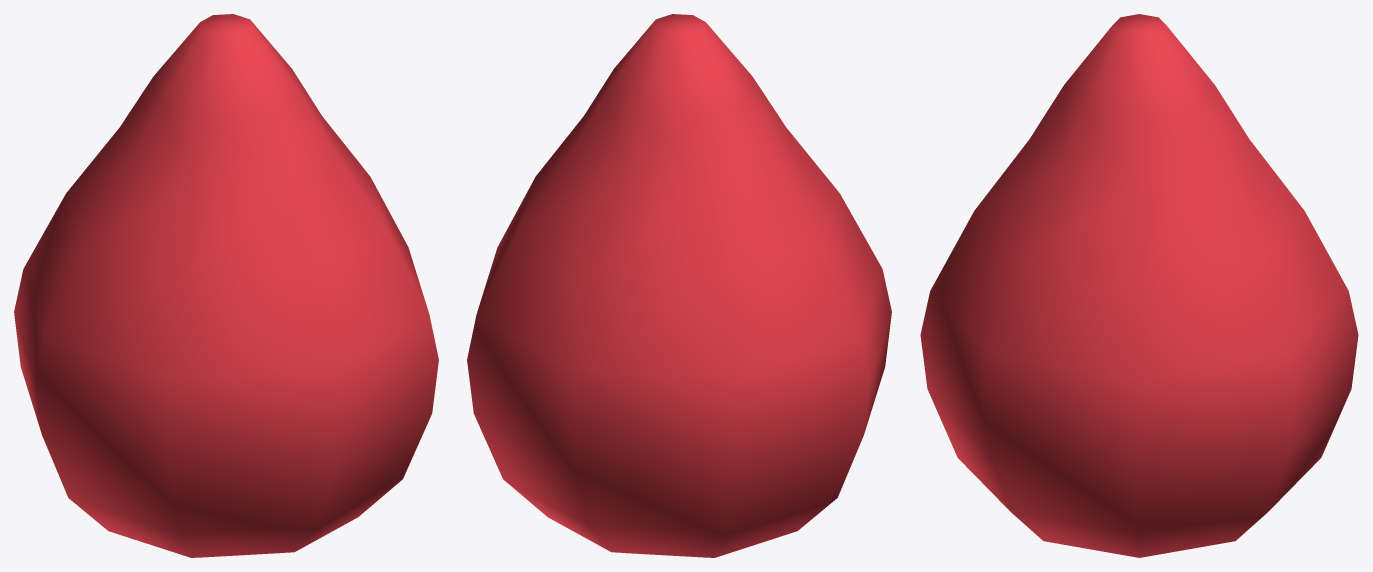
Rendered from berry.fbx.
3 views of the same model, side by side, from view 1: azimuth 30°, elevation 25°; view 2: azimuth 150°, elevation 25°; view 3: azimuth 270°, elevation 25° (orthographic).
Visible parts, largest first — view 1: 円柱.001; view 2: 円柱.001; view 3: 円柱.001.
Part boxes in pixels (left/top/right/bottom): 円柱.001: left=14, top=14, right=438, bottom=557; 円柱.001: left=467, top=14, right=891, bottom=557; 円柱.001: left=920, top=14, right=1358, bottom=557.
Size of the model in its own units: 17.92 by 22.07 by 17.92.
